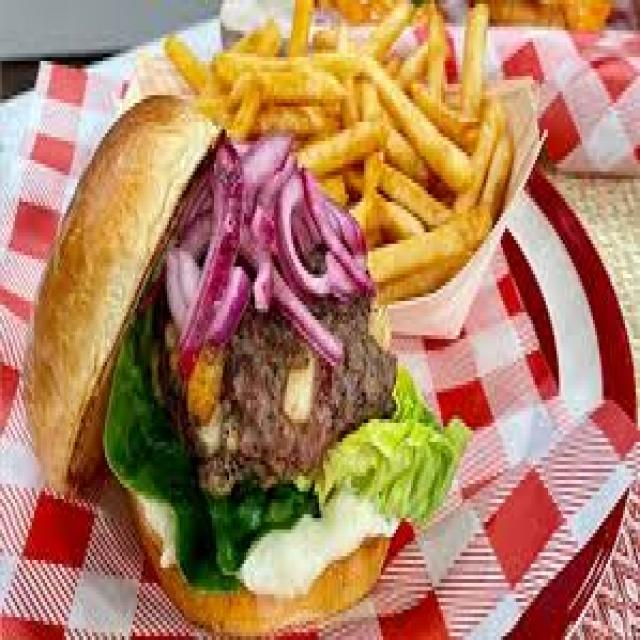Burger: (26, 103, 447, 606)
French Fries: (161, 4, 503, 289)
